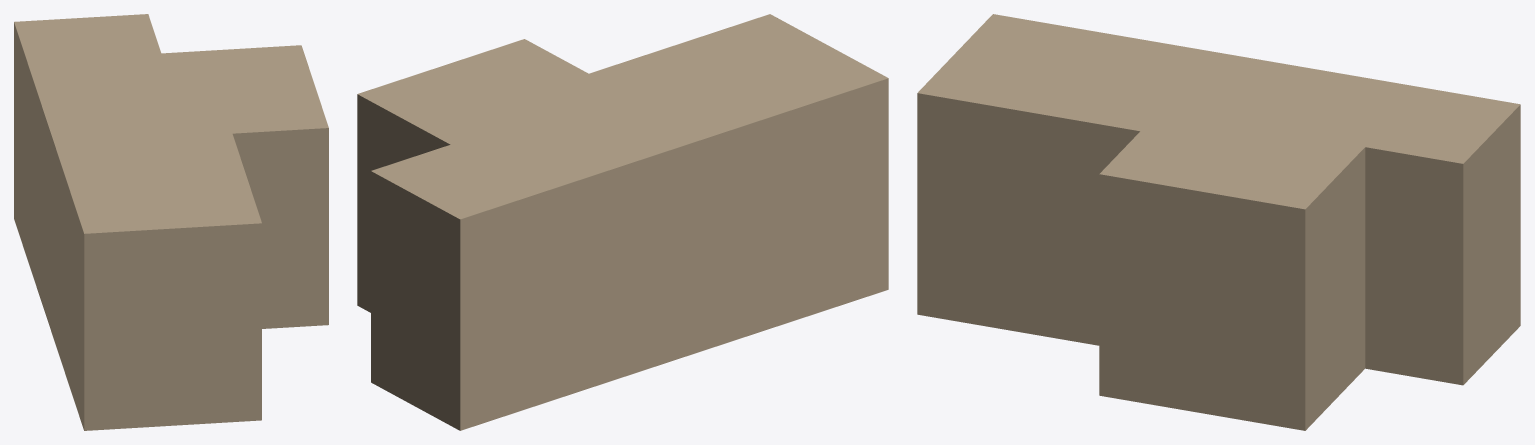
File: bld_101524493.dae
3 views of the same model, side by side, from view 1: azimuth 30°, elevation 25°; view 2: azimuth 150°, elevation 25°; view 3: azimuth 270°, elevation 25° (orthographic). The views are drawn at different scales.
Visible parts, largest first — view 1: bld_101524493; view 2: bld_101524493; view 3: bld_101524493.
Part boxes in pixels (x1,y1,x2,y2): bld_101524493: (14,14,328,430); bld_101524493: (357,14,888,430); bld_101524493: (917,14,1520,430).
Bounding box in the file's own units: 15.14 × 19.75 × 8.
